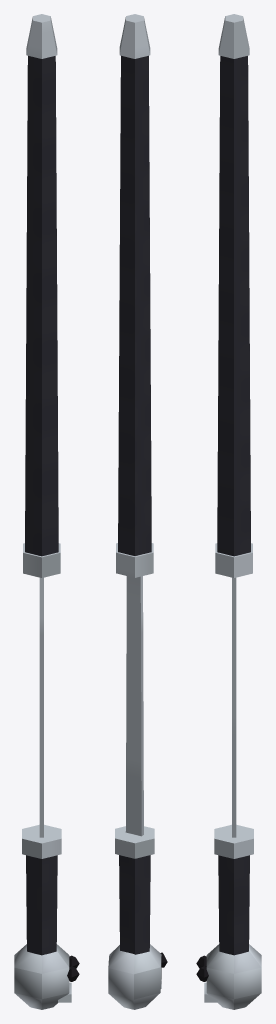
The model's file is SM_Prop_SwordCane_HQ.glb.
3 views of the same model, side by side, from view 1: azimuth 90°, elevation 25°; view 2: azimuth 150°, elevation 25°; view 3: azimuth 270°, elevation 25° (orthographic).
Visible parts, largest first — view 1: SM_Prop_SwordCane_HQ; view 2: SM_Prop_SwordCane_HQ; view 3: SM_Prop_SwordCane_HQ.
Part boxes in pixels (x1,y1,x2,y2): SM_Prop_SwordCane_HQ: (14,14,79,1009); SM_Prop_SwordCane_HQ: (108,14,167,1009); SM_Prop_SwordCane_HQ: (196,14,261,1009).
Size of the model in its own units: 0.0517 by 0.9496 by 0.057.
1 material, 1 textured.
